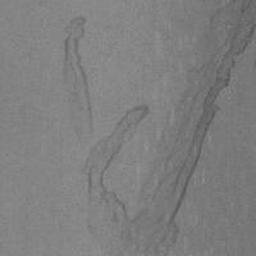Water spot: (79, 0, 256, 256), (60, 17, 95, 146)
